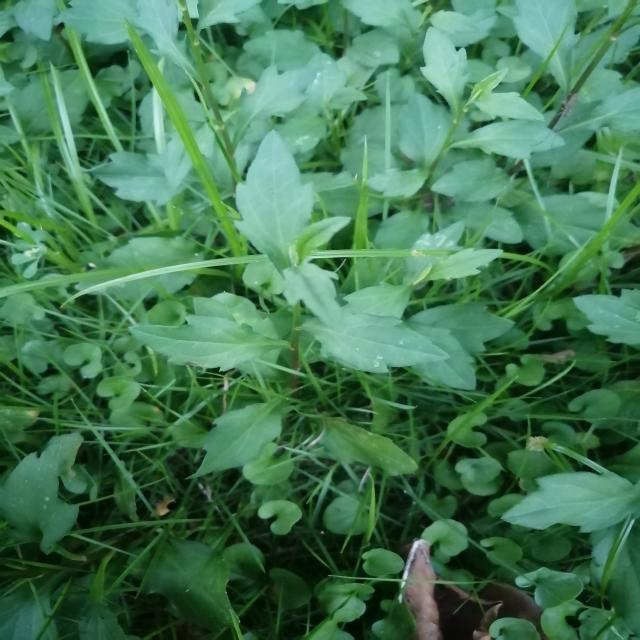Indian aster: (178, 181, 470, 414)
